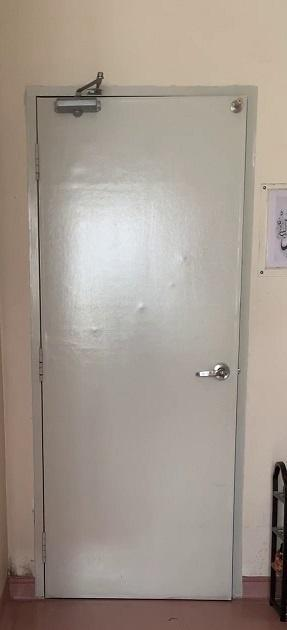door: (24, 79, 249, 604)
